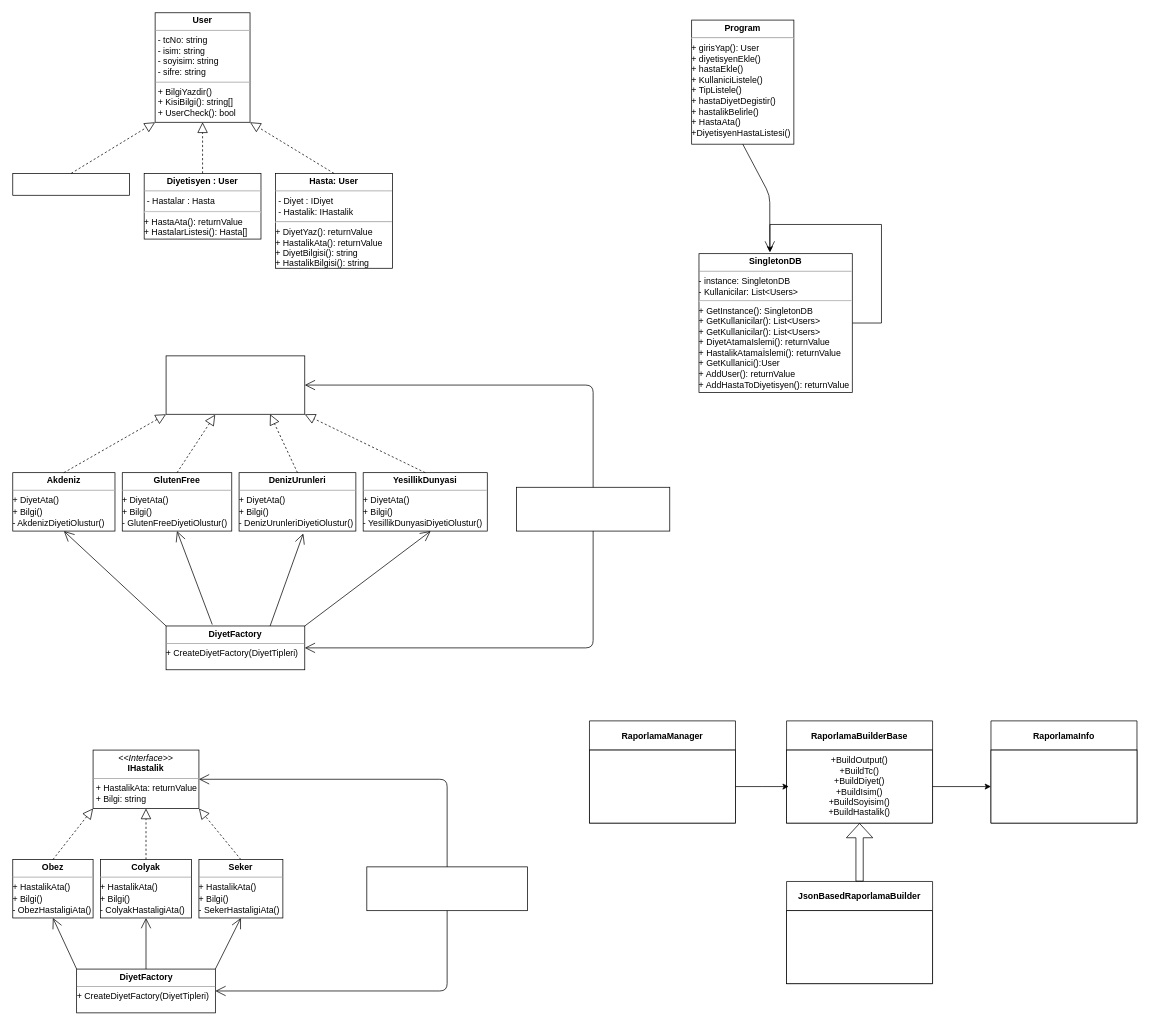
The diagram is 1150 pixels wide and 1026 high, and some of its shapes have lost their labels. The centre of each missing label's shape, as x and y in pixels:
"+Build() +BuildUpsideDown()" belongs at (x=662, y=786).
"+BuildTc() +BuildIsim() +BuildSoyisim() +BuildHastalik() +BuildDiyet()" belongs at (x=859, y=947).
"+Tc +Isim +Soyisim +Hastalik +Diyet" belongs at (x=1063, y=786).
"<<Interface>> IDiyet + DiyetAta: returnValue + Bilgi: string" belongs at (x=235, y=384).
"Admin: User" belongs at (x=71, y=184).
"Client + DiyetAtamaIslemi(DiyetTipleri,Hasta)" belongs at (x=593, y=509).
"Client + HastalikAtamaIslemi(Hastaliklar,Hasta)" belongs at (x=446, y=888).
